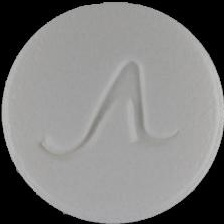63187-099: (0, 0, 224, 224)
